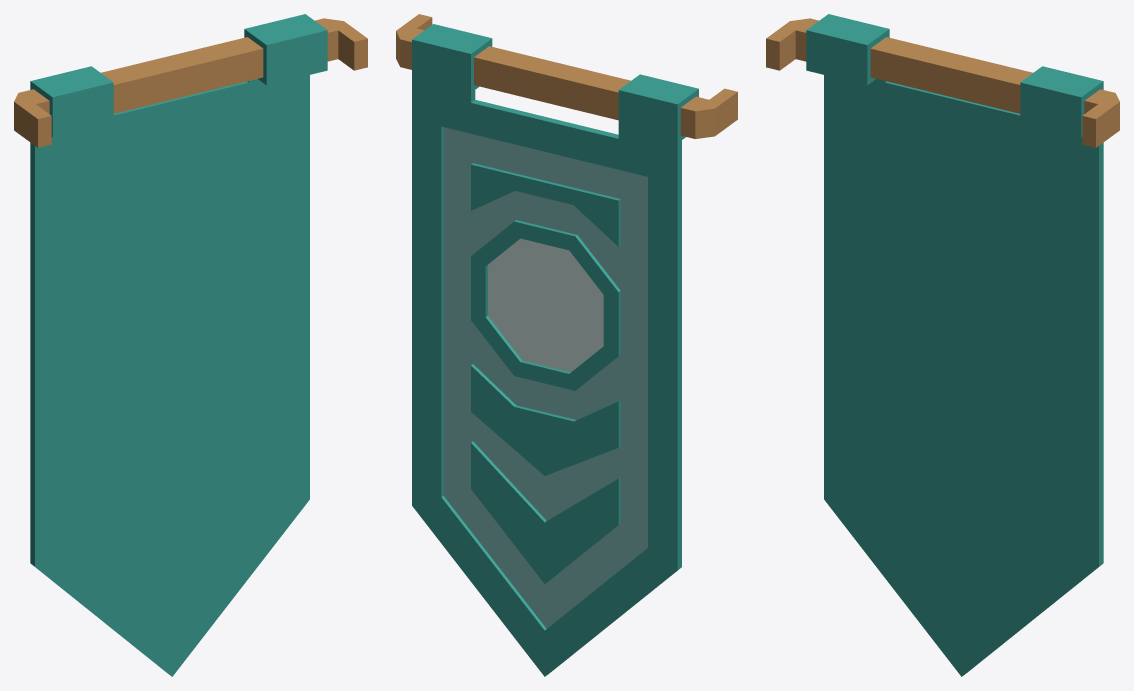
File: Prop_Flag_Sun.fbx
The picture shows the model from 3 angles, left to right: view 1: azimuth 30°, elevation 25°; view 2: azimuth 150°, elevation 25°; view 3: azimuth 330°, elevation 25°; orthographic projection. The views are drawn at different scales.
Parts seen in each view (by area): view 1: object2, object1; view 2: object2, object1; view 3: object2, object1.
Boxes of the visible parts, <box> form: object2: <box>30,14,327,676</box>; object1: <box>14,18,367,147</box>; object2: <box>412,24,698,676</box>; object1: <box>396,14,737,138</box>; object2: <box>806,14,1103,676</box>; object1: <box>766,18,1119,147</box>.
Size of the model in its own units: 0.54 by 0.979 by 0.099.
